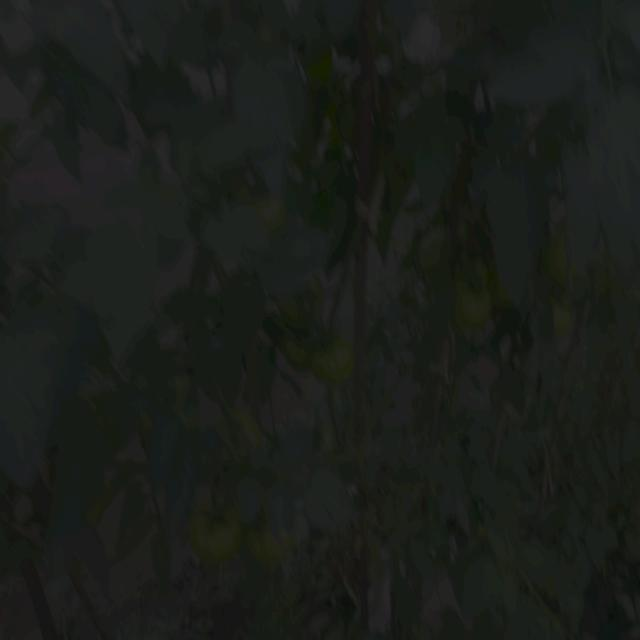tomato: (185, 495, 233, 562), (274, 323, 327, 378), (247, 523, 291, 574), (323, 337, 356, 393), (257, 185, 298, 228), (223, 404, 267, 444), (462, 278, 494, 332), (417, 225, 453, 267), (555, 290, 578, 346), (543, 233, 565, 282)
